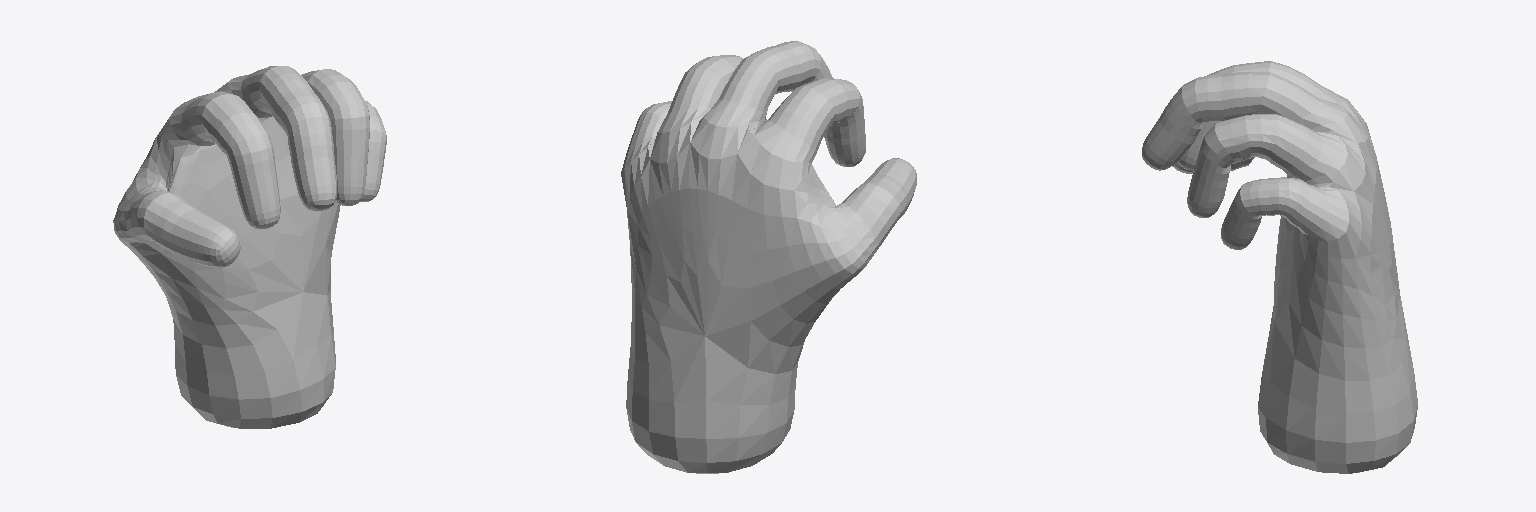
Rendered from handanimatsion72.obj.
3 renders of one model, left to right at view 1: azimuth 30°, elevation 25°; view 2: azimuth 150°, elevation 25°; view 3: azimuth 270°, elevation 25°, orthographic.
Visible parts, largest first — view 1: Cube; view 2: Cube; view 3: Cube.
Part boxes in pixels (bbox=[...]): Cube: bbox=[113, 66, 386, 428]; Cube: bbox=[621, 41, 916, 473]; Cube: bbox=[1142, 61, 1417, 473].
Bounding box in the file's own units: 3.12 × 4.61 × 3.04.